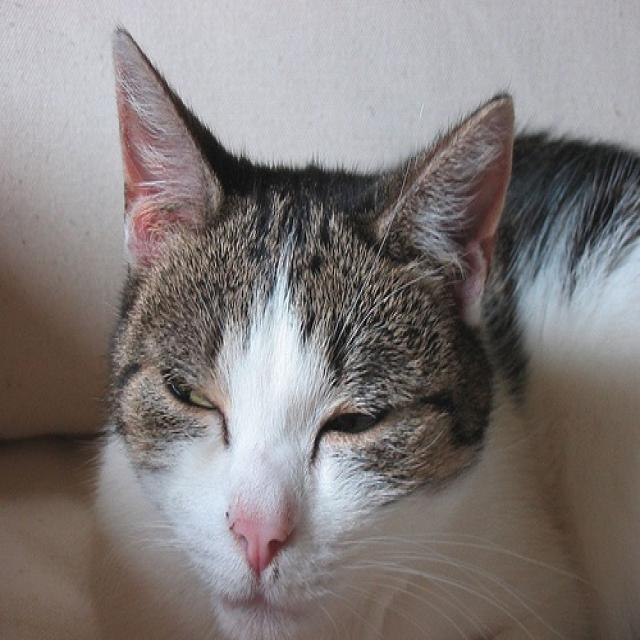cat: (94, 21, 638, 638)
